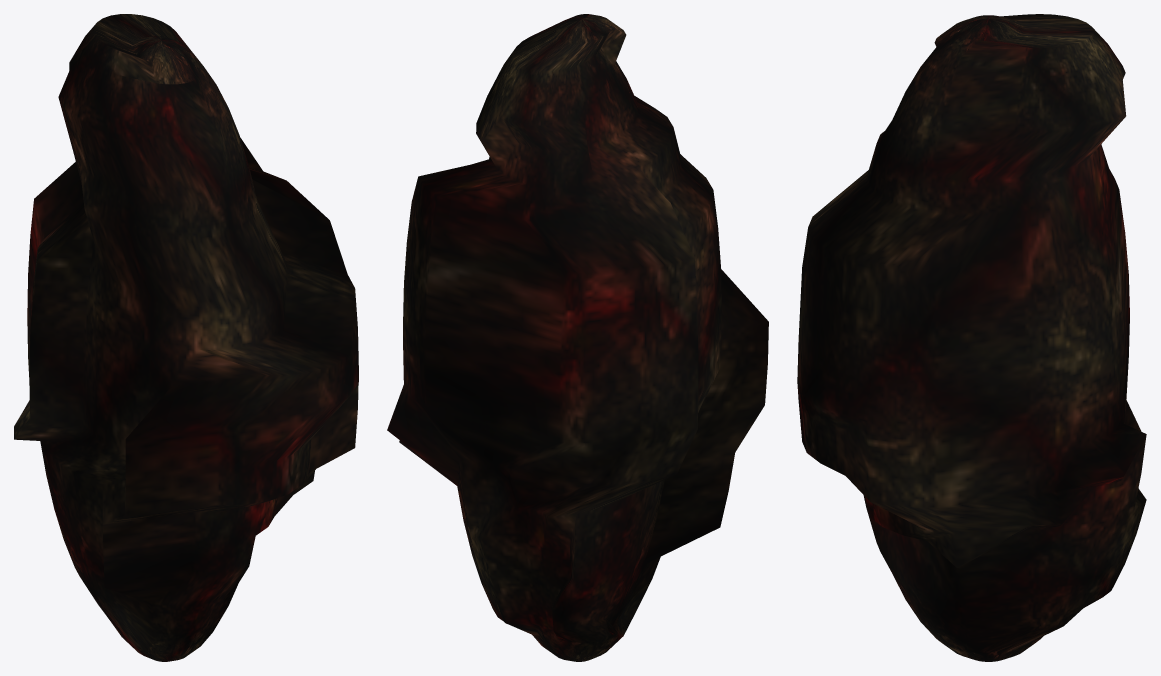
The model's file is Asteroid.obj.
3 views of the same model, side by side, from view 1: azimuth 30°, elevation 25°; view 2: azimuth 150°, elevation 25°; view 3: azimuth 270°, elevation 25° (orthographic). The views are drawn at different scales.
Parts seen in each view (by area): view 1: Sphere; view 2: Sphere; view 3: Sphere.
Boxes of the visible parts, <box> form: Sphere: <box>14,14,358,661</box>; Sphere: <box>387,14,768,661</box>; Sphere: <box>797,14,1146,661</box>.
Size of the model in its own units: 1.16 by 2.5 by 1.24.
1 material, 1 textured.
